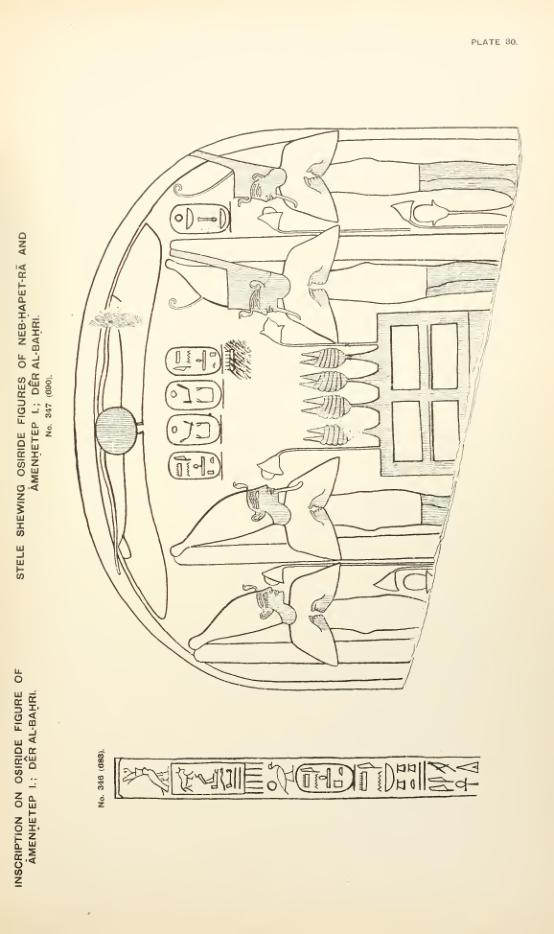circle: (168, 200, 236, 236), (165, 449, 228, 486), (160, 377, 230, 410), (162, 342, 227, 377), (165, 412, 227, 447), (293, 763, 358, 795)
